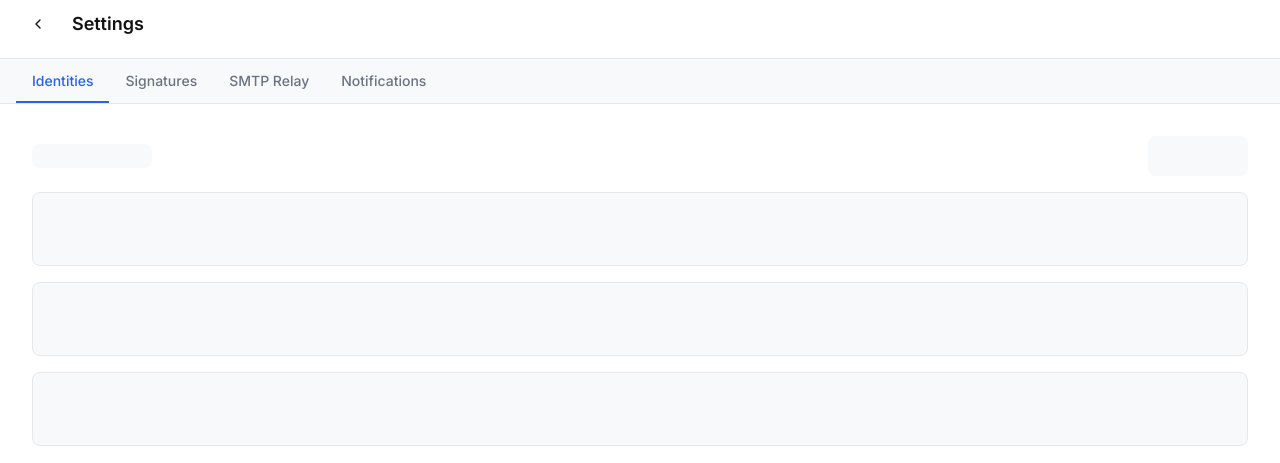
Test case: Settings › signatures tab › switches to signatures tab and shows empty state
The image size is (1280, 463).
What coordinates should you click on to do the following:
click the tab "Signatures"
I would click on:
 (161, 81)
Its box is [110,59,213,103].
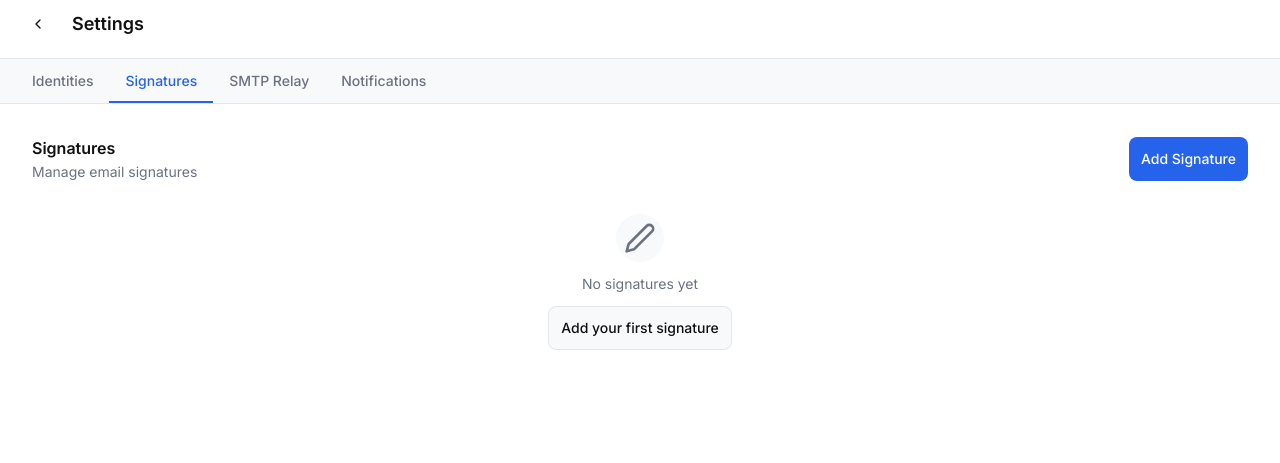
Check: the text "No signatures yet" is shown, box [582,274,698,294]
